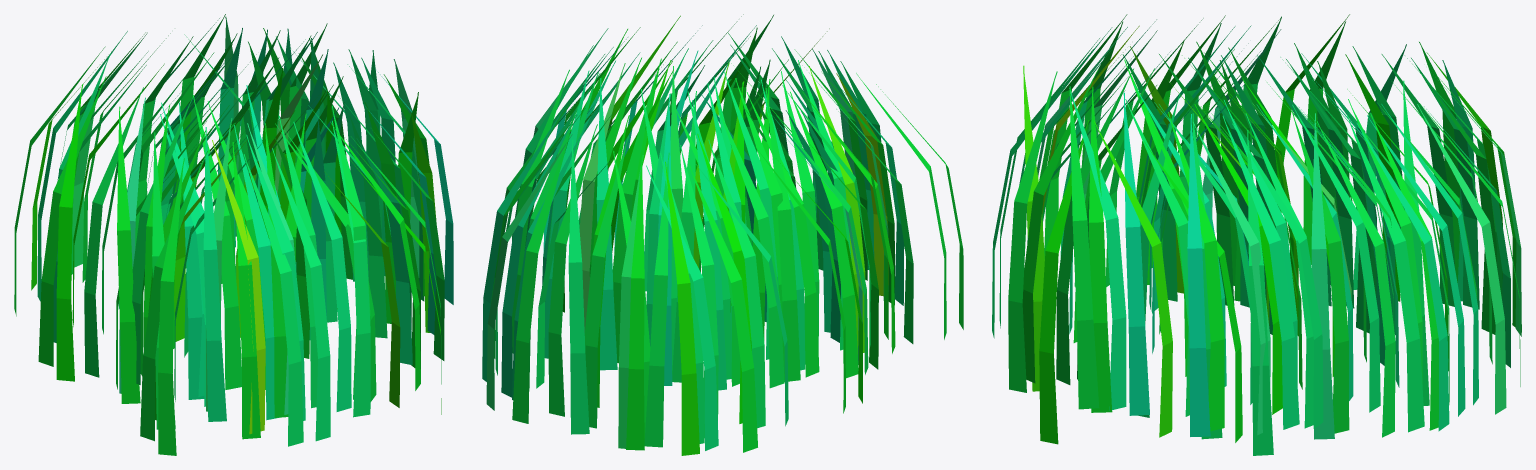
File: Grass.fbx
The picture shows the model from 3 angles, left to right: view 1: azimuth 30°, elevation 25°; view 2: azimuth 150°, elevation 25°; view 3: azimuth 270°, elevation 25°; orthographic projection. The views are drawn at different scales.
Parts seen in each view (by area): view 1: Plane.094, Plane.066, Plane.053, Plane.024, Plane.015, Plane.030, Plane.028, Plane.111, Plane.031, Plane.075, Plane.089, Plane.052 (+75 smaller); view 2: Plane.083, Plane.050, Plane.044, Plane.055, Plane.058, Plane.002, Plane.045, Plane.081, Plane.074, Plane.003, Plane.086, Plane.067 (+72 smaller); view 3: Plane.102, Plane.119, Plane.087, Plane.100, Plane.017, Plane.040, Plane.019, Plane.062, Plane.103, Plane.082, Plane.123, Plane.046 (+80 smaller).
Boxes of the visible parts, x1,y1,x2,y2 form: Plane.094: (203, 127, 226, 421); Plane.066: (56, 84, 83, 381); Plane.053: (117, 106, 140, 403); Plane.024: (158, 158, 184, 455); Plane.015: (232, 142, 260, 439); Plane.030: (243, 154, 303, 446); Plane.028: (272, 148, 330, 441); Plane.111: (293, 122, 351, 411); Plane.031: (332, 120, 370, 417); Plane.075: (193, 95, 241, 389); Plane.089: (84, 87, 143, 377); Plane.052: (38, 76, 106, 366); Plane.083: (568, 139, 589, 434); Plane.050: (626, 155, 644, 450); Plane.044: (665, 161, 699, 455); Plane.055: (644, 152, 669, 447); Plane.058: (512, 133, 570, 423); Plane.002: (765, 88, 800, 381); Plane.045: (689, 165, 757, 452); Plane.081: (548, 124, 597, 416); Plane.074: (584, 136, 628, 428); Plane.003: (790, 91, 858, 378); Plane.086: (716, 103, 784, 388); Plane.067: (708, 139, 765, 427); Plane.102: (1187, 114, 1210, 436); Plane.119: (1069, 86, 1099, 409); Plane.087: (1123, 92, 1149, 415); Plane.100: (1008, 71, 1057, 392); Plane.017: (1039, 120, 1089, 444); Plane.040: (1069, 88, 1126, 410); Plane.019: (1088, 86, 1112, 412); Plane.062: (1347, 115, 1424, 432); Plane.103: (1222, 115, 1299, 429); Plane.082: (1292, 111, 1349, 433); Plane.123: (1168, 112, 1224, 431); Plane.046: (1247, 130, 1273, 455).
Bounding box in the file's own units: 291 × 234 × 338.
